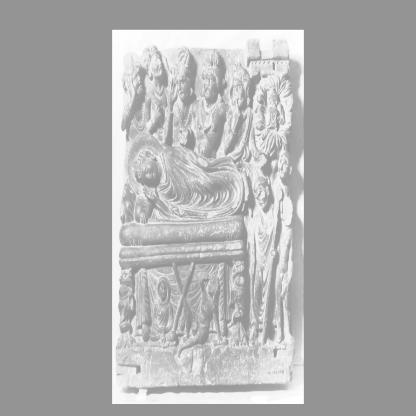buddha-sleeping: (128, 133, 246, 343)
